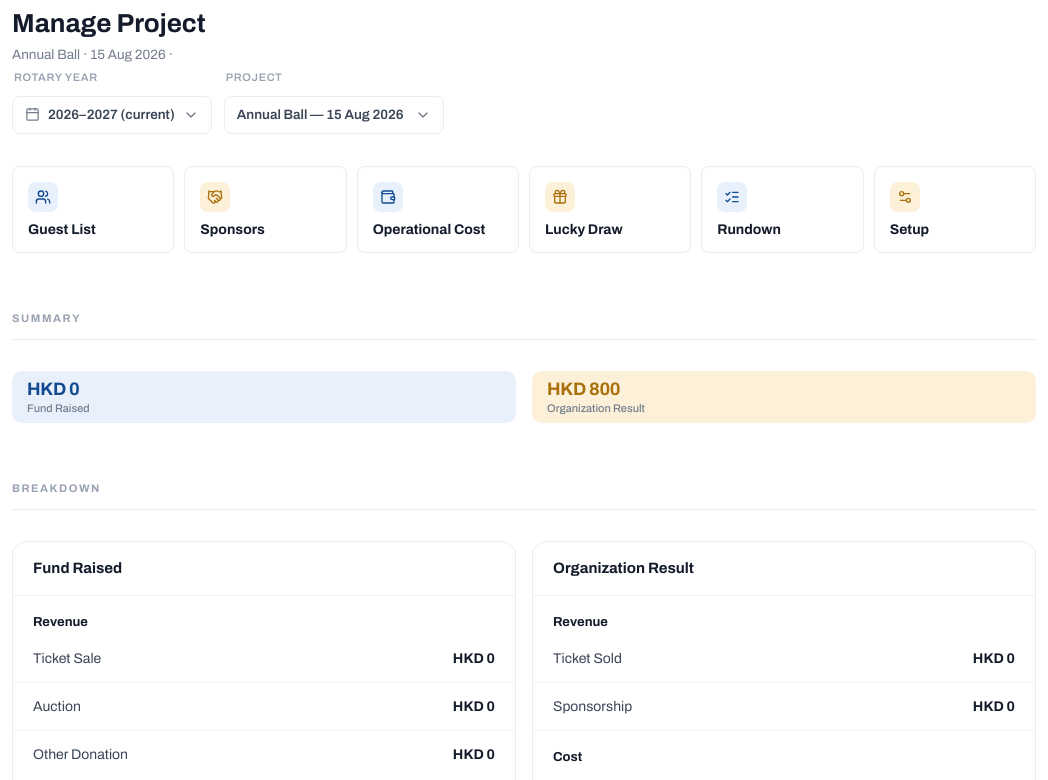
Test: EventManageProject › switching the event pill re-fetches panel data for the new event
Click the button with aria-label "Project".
click(334, 115)  # box left=224, top=96, right=444, bottom=134
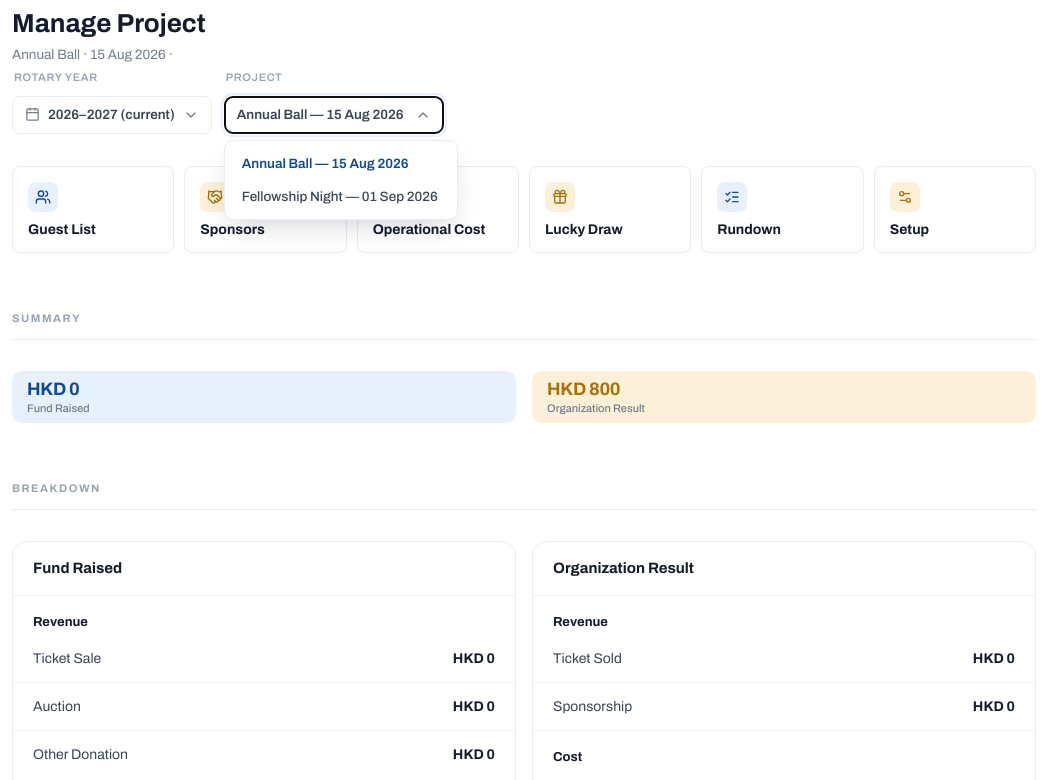
Click the option "Fellowship Night — 01 Sep 2026".
click(341, 196)  # box left=231, top=180, right=451, bottom=213
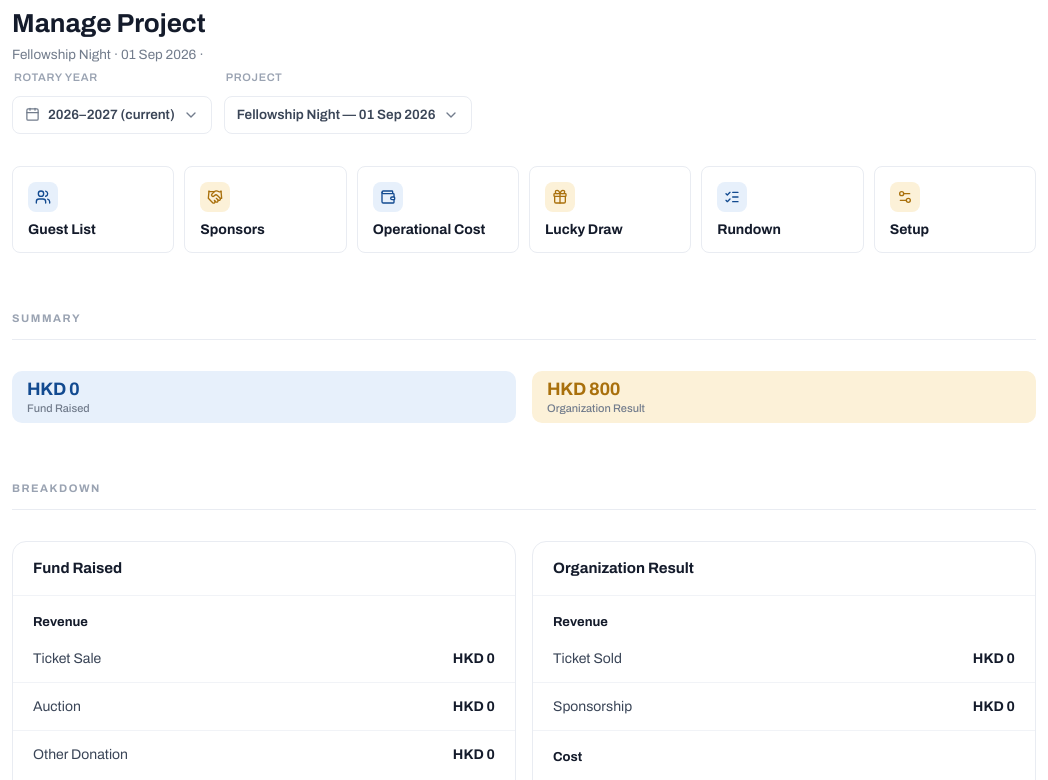
Result: the button with aria-label "Project" reads "Fellowship Night — 01 Sep 2026" at left=224, top=96, right=472, bottom=134
